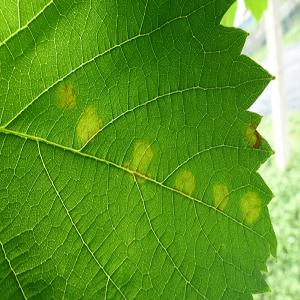Folha: (0, 0, 278, 299)
Fungo: (74, 105, 102, 146), (240, 190, 262, 226), (132, 139, 153, 174), (57, 79, 77, 111), (174, 168, 195, 196), (243, 119, 262, 149), (213, 182, 229, 210)
